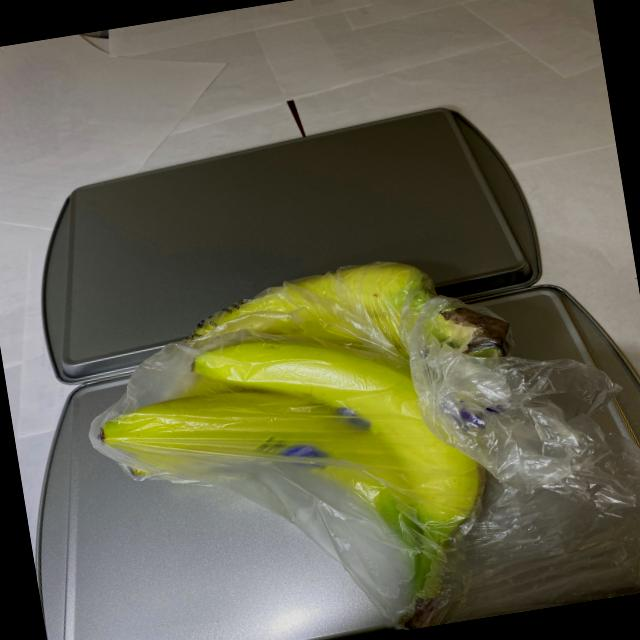banana: (71, 234, 554, 640)
